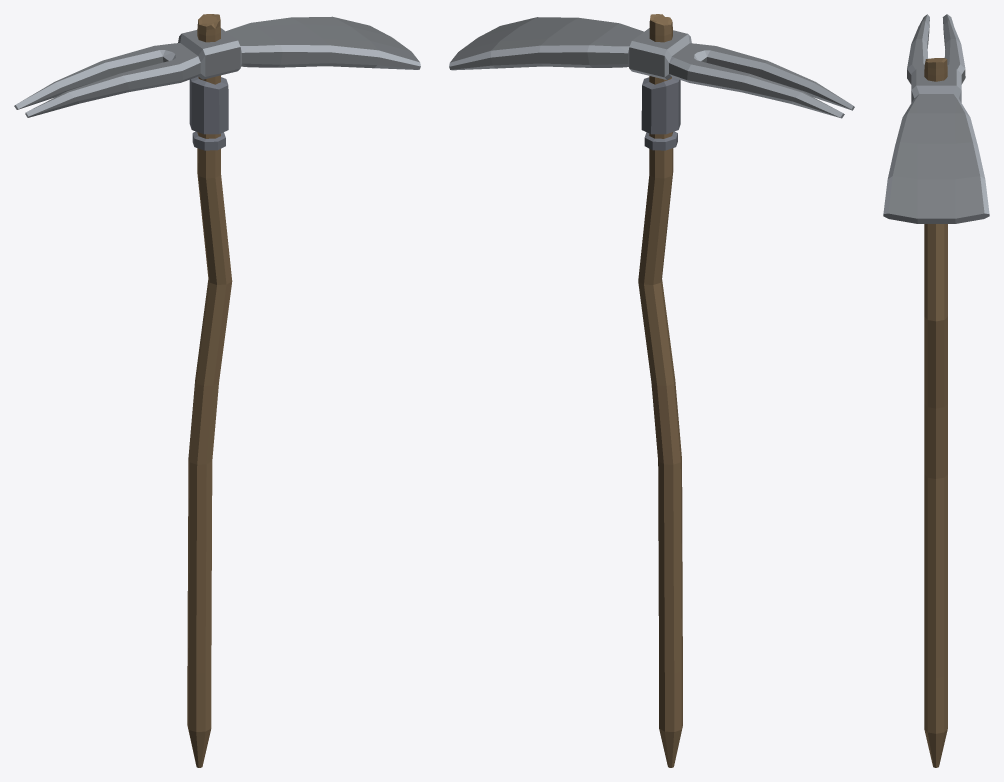
File: WF_LP_HT_Props_Pickaxe.fbx
The picture shows the model from 3 angles, left to right: view 1: azimuth 30°, elevation 25°; view 2: azimuth 150°, elevation 25°; view 3: azimuth 270°, elevation 25°; orthographic projection. The views are drawn at different scales.
Visible parts, largest first — view 1: WF_LP_HT_Props_Pickaxe; view 2: WF_LP_HT_Props_Pickaxe; view 3: WF_LP_HT_Props_Pickaxe.
Part boxes in pixels (x1,y1,x2,y2): WF_LP_HT_Props_Pickaxe: [14, 14, 420, 767]; WF_LP_HT_Props_Pickaxe: [449, 14, 854, 767]; WF_LP_HT_Props_Pickaxe: [883, 14, 989, 767].
Size of the model in its own units: 0.7699 by 1.44 by 0.1946.
